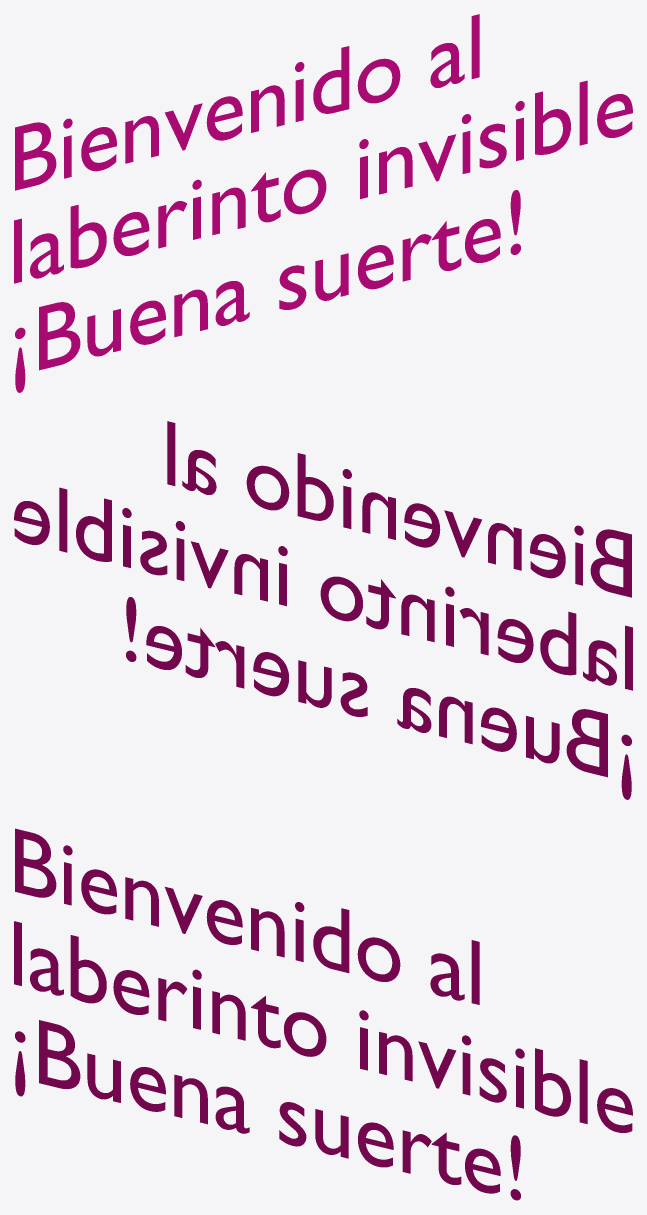
Rendered from lab.fbx.
3 views of the same model, one above another, from view 1: azimuth 30°, elevation 25°; view 2: azimuth 150°, elevation 25°; view 3: azimuth 330°, elevation 25° (orthographic).
Parts seen in each view (by area): view 1: Text; view 2: Text; view 3: Text.
Boxes of the visible parts, x1=… form: Text: x1=14, y1=14, x2=632, y2=392; Text: x1=14, y1=421, x2=632, y2=799; Text: x1=14, y1=828, x2=632, y2=1200.
Bounding box in the file's own units: 698 × 287 × 4.68e-05.
